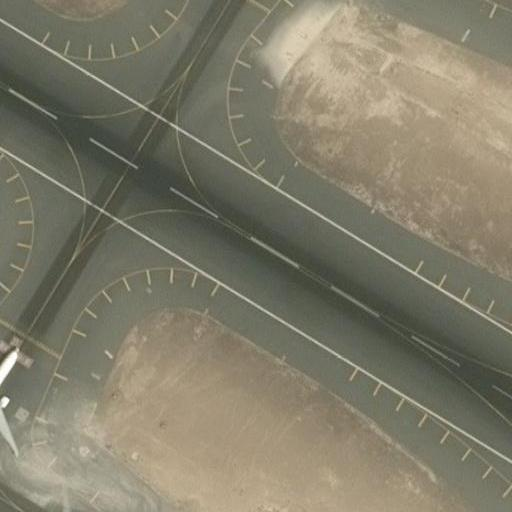Aircraft: (0, 341, 43, 473)
